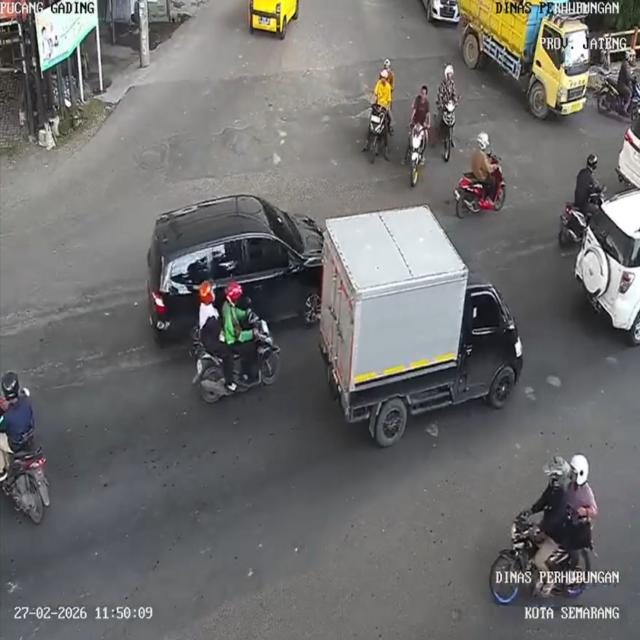motorcycle: (494, 515, 592, 599), (195, 336, 279, 400), (4, 447, 58, 529), (452, 171, 509, 216), (435, 96, 460, 171), (406, 120, 431, 192), (364, 106, 392, 169), (598, 76, 640, 118), (554, 198, 585, 248)
person: (1, 358, 44, 452), (528, 452, 568, 543), (561, 450, 598, 540), (219, 278, 251, 352), (196, 285, 228, 346), (572, 148, 603, 206), (472, 128, 497, 177), (436, 63, 460, 108), (371, 71, 394, 116), (411, 86, 432, 130), (621, 42, 639, 90), (378, 55, 396, 91)
rider_region: (192, 280, 282, 403), (1, 356, 55, 534), (557, 150, 610, 249), (456, 126, 508, 220), (366, 56, 397, 168), (406, 82, 432, 190), (598, 46, 639, 114), (435, 60, 461, 167)
